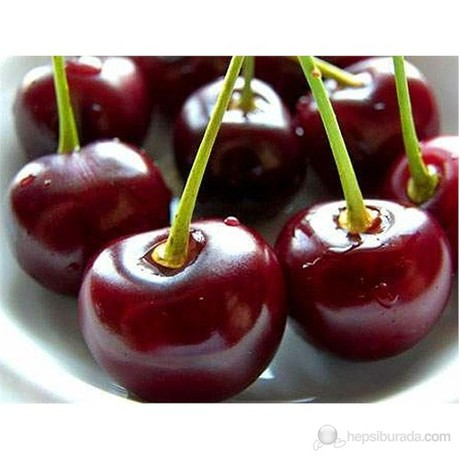Cherry: (75, 216, 281, 403), (272, 195, 456, 368), (1, 140, 174, 305)
